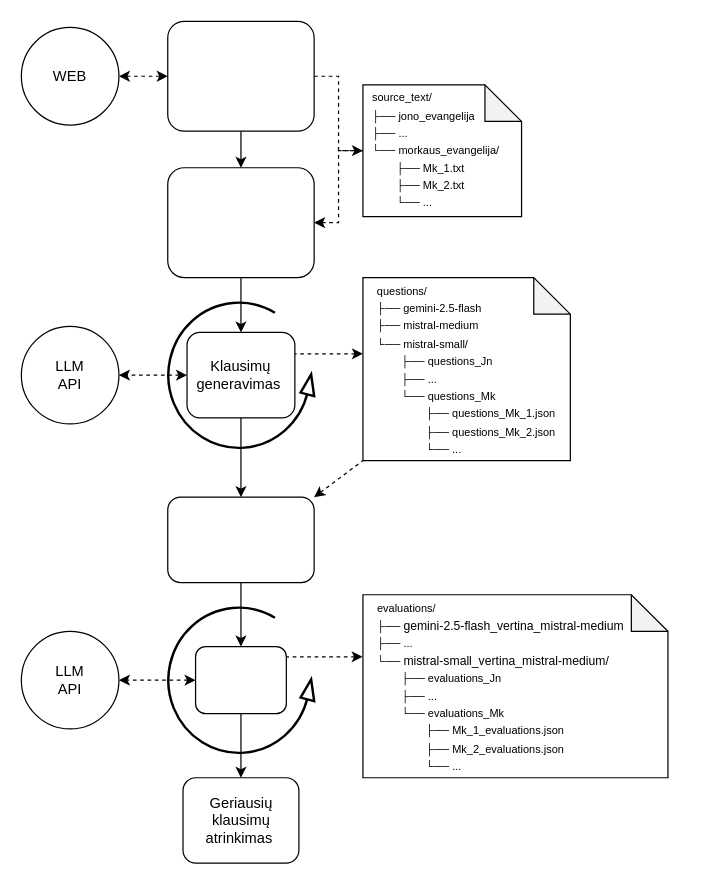
Image size: 714x885. Some labels were removed from this diagram. The shapes that lost their labels are listed below. From the top down, each one's centre as x and y in pixels, then its label:
the point at 240,75: Šaltinio tekstų nuskaitymas ir išsaugojimas
the point at 240,222: LLM užklausos klausimams generuoti sukūrimas
the point at 240,539: LLM užklausos klausimams įvertinti sukūrimas
the point at 240,679: Kryžminis klausimų vertinimas
